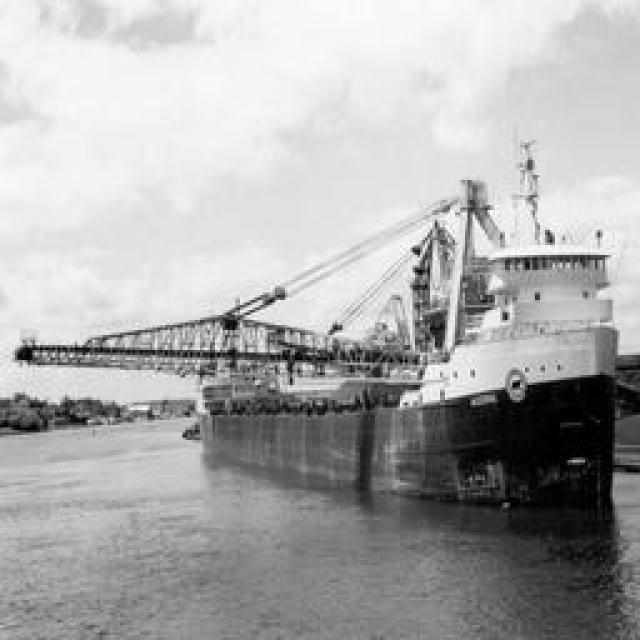Ship: (402, 134, 625, 447)
